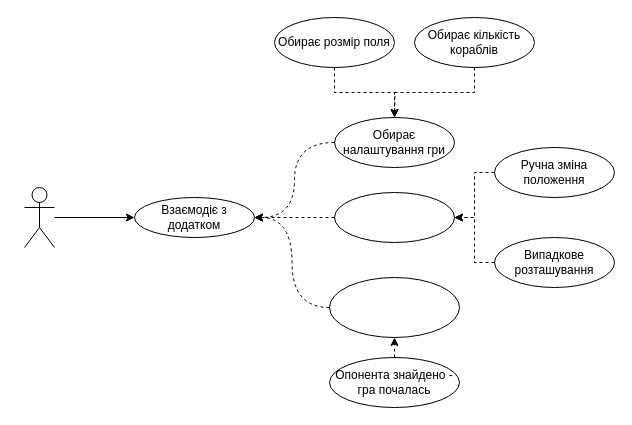
This 632x425 diagram has some shape labels left out. The box of each missing label's shape, as (x1, y1, x2, y2) in pixels:
Гравець: (24, 186, 54, 248)
Починає пошук опонента з даними налаштуваннями: (328, 276, 460, 338)
Розташовує кораблі на полі: (334, 192, 454, 242)
